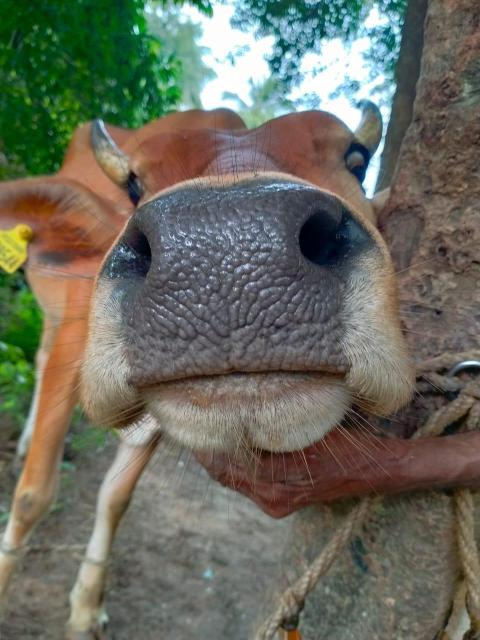Muzzle: (134, 201, 340, 393)
